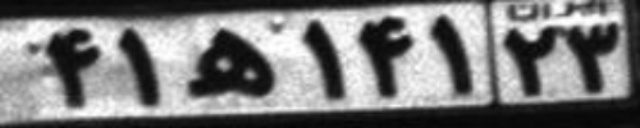1: (114, 26, 161, 105), (428, 14, 473, 94), (300, 18, 343, 97)
2: (504, 24, 560, 96)
3: (567, 21, 621, 91)
4: (42, 26, 104, 107), (359, 15, 413, 97)
he: (185, 26, 277, 98)
